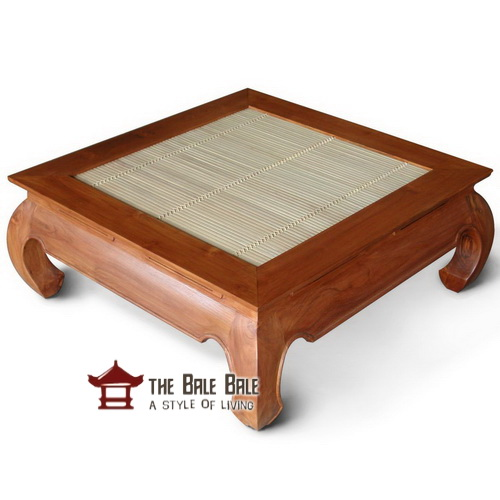Carving Table: (24, 96, 492, 406)
